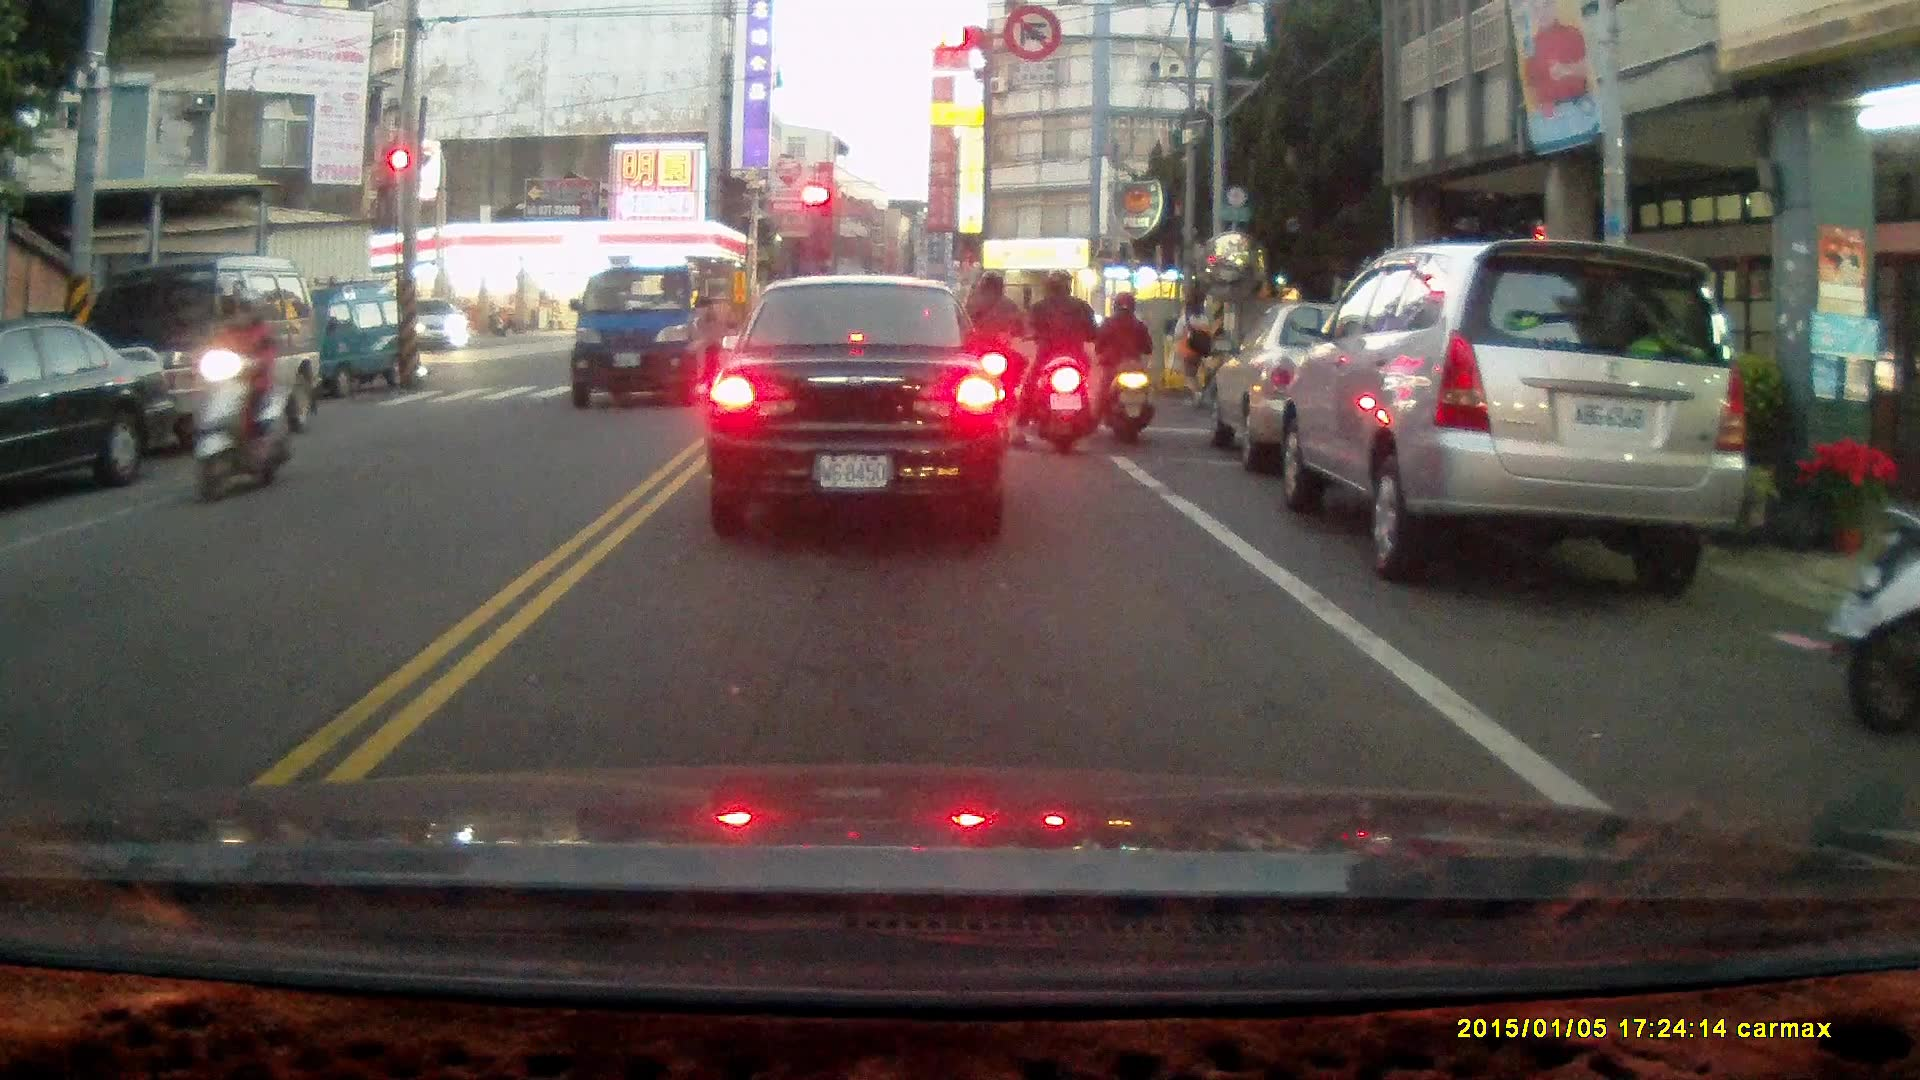pedestrian: (1165, 290, 1221, 411)
rider: (191, 286, 294, 504), (1014, 268, 1103, 457), (959, 267, 1024, 431), (1092, 288, 1157, 444)
vehicle: (1279, 236, 1756, 588), (710, 279, 1016, 532), (82, 244, 322, 441), (1212, 300, 1461, 477), (1, 311, 175, 504), (569, 264, 725, 402), (282, 271, 427, 400)
